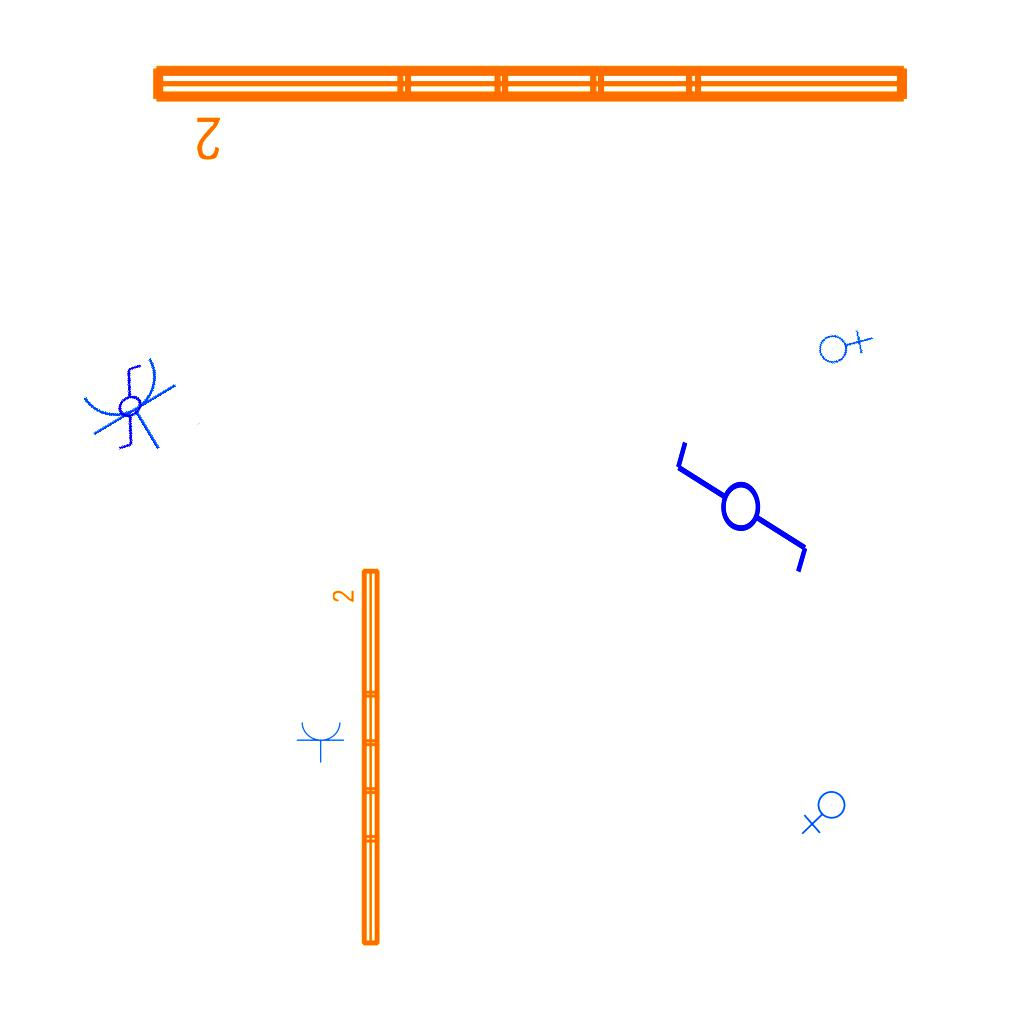Ambulanz_Pendelleuchte_LED: (144, 53, 918, 165), (330, 564, 386, 951)
Elektroanschluss_allgemein_230V_Geraeteanschlussdose_230V: (809, 312, 876, 377), (801, 790, 850, 837)
Schukosteckdose_einfach: (71, 348, 203, 475), (296, 720, 346, 763)
Wechselschalter: (671, 420, 815, 577), (81, 353, 187, 457)
